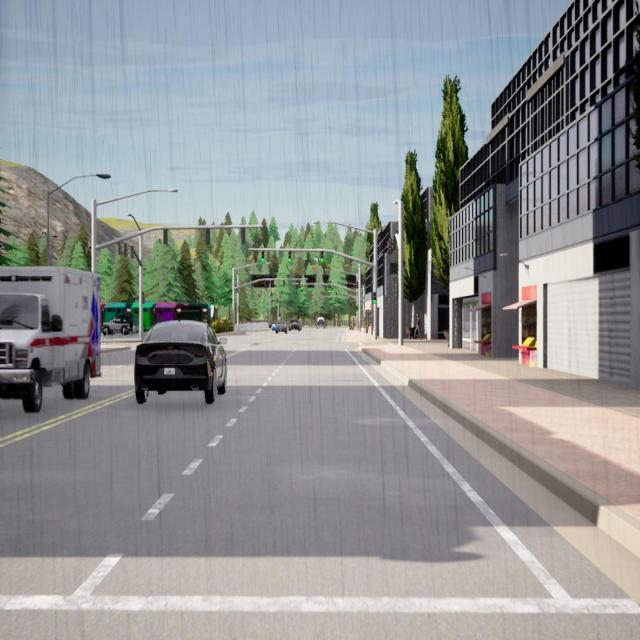Pedestrian: (413, 312, 423, 340), (352, 317, 355, 332)
Traffic_Signs: (278, 317, 280, 320)
Vehicle: (0, 267, 101, 412), (134, 320, 226, 403), (102, 315, 133, 335), (288, 320, 302, 331), (276, 320, 287, 334), (316, 317, 324, 329), (272, 322, 277, 332)
traffic_light: (206, 228, 210, 244), (372, 292, 377, 304), (394, 283, 398, 298), (392, 236, 396, 250), (118, 242, 122, 255), (288, 251, 292, 264), (124, 243, 128, 256), (242, 228, 245, 244), (320, 251, 324, 263), (164, 229, 167, 244), (389, 238, 392, 252), (131, 246, 134, 258), (142, 292, 145, 303), (386, 242, 389, 252), (262, 250, 264, 263), (356, 305, 358, 312), (283, 280, 285, 287), (312, 285, 314, 291), (329, 285, 331, 291), (335, 292, 337, 298), (238, 306, 240, 312), (298, 280, 300, 286), (298, 286, 300, 291), (348, 296, 350, 300), (277, 298, 278, 303), (328, 295, 329, 299), (271, 292, 272, 296)
